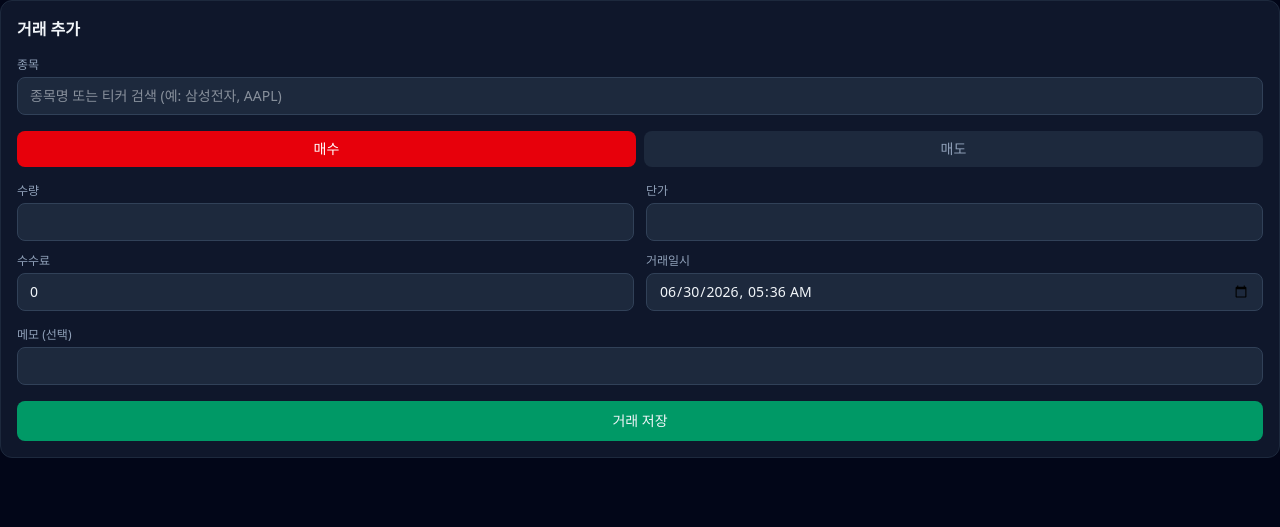
Test: TransactionForm › shows error when quantity and price are missing
This screenshot has width=1280, height=527.
What coordinates should you click on to do the following:
click the button "거래 저장"
I would click on:
 (640, 421)
Its box is [17,401,1263,441].
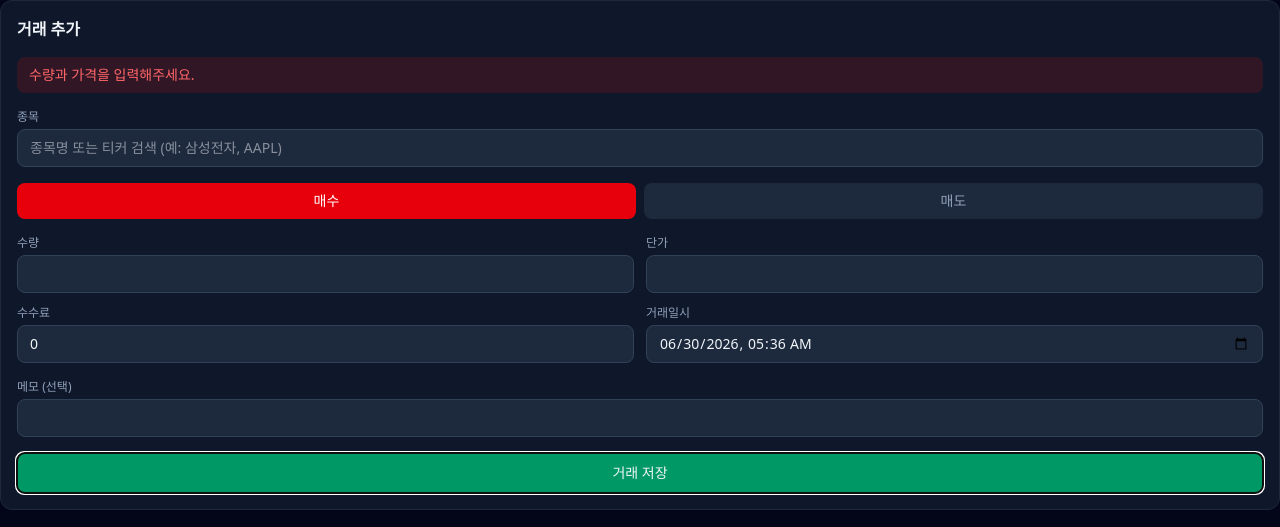
Now the message shows "수량과 가격", box [29,65,195,84]
